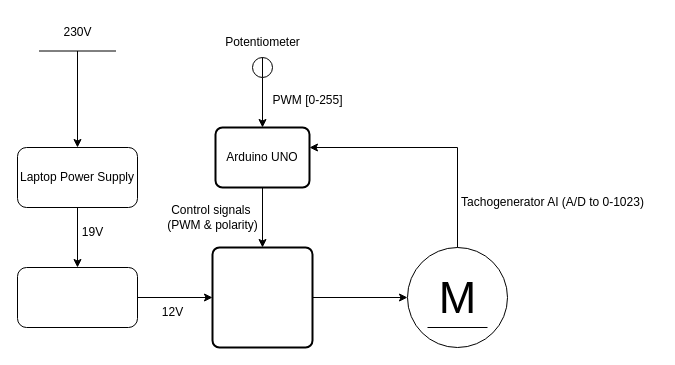
The diagram is 675 pixels wide and 365 high, and some of its shapes have lost their labels. Each missing label, with the box of its shape:
H-bridge (Motor driver): (211, 246, 313, 348)
Voltage converter: (16, 266, 138, 328)
